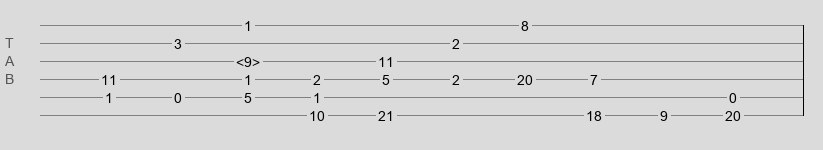0: (174, 90, 182, 100), (729, 90, 737, 100)
1: (105, 90, 113, 100), (244, 72, 252, 82), (244, 18, 252, 28), (313, 90, 321, 100)
10: (309, 108, 325, 118)
11: (101, 72, 117, 82), (378, 54, 394, 64)
18: (586, 108, 602, 118)
2: (313, 72, 321, 82), (452, 36, 460, 46), (452, 72, 460, 82)
20: (517, 72, 533, 82), (725, 108, 741, 118)
21: (378, 108, 394, 118)
3: (174, 36, 182, 46)
5: (244, 90, 252, 100), (382, 72, 390, 82)
7: (590, 72, 598, 82)
8: (521, 18, 529, 28)
9: (660, 108, 668, 118)
harmonic: (236, 54, 260, 64)
